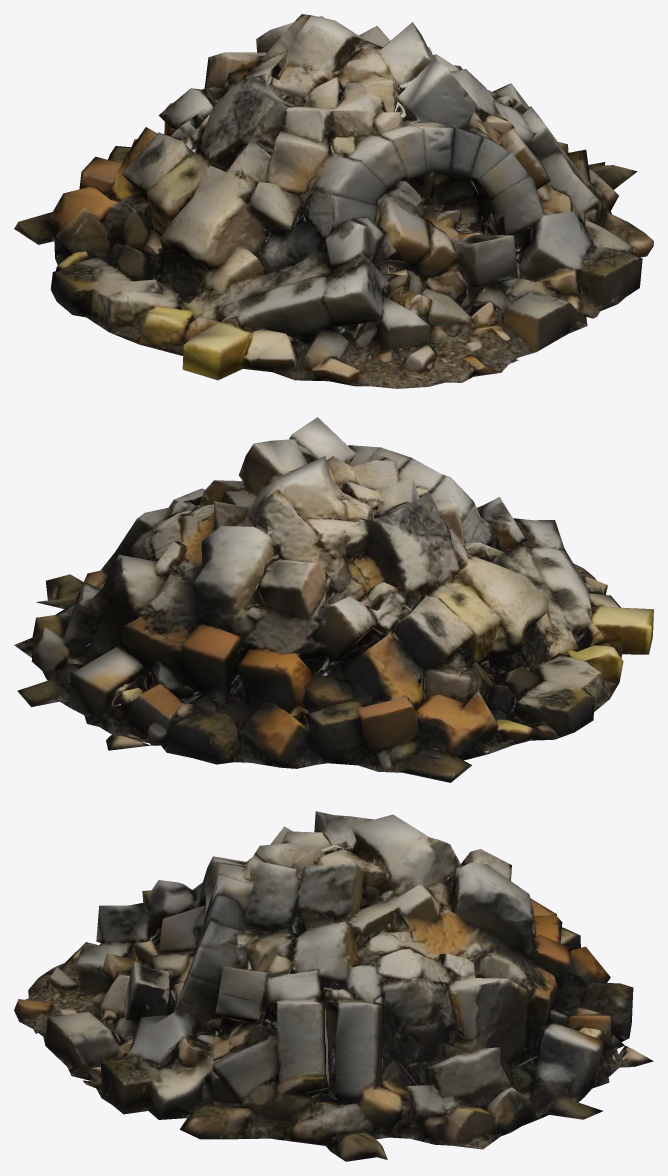
File: Rubble_Pile.glb
3 renders of one model, top to bottom at view 1: azimuth 30°, elevation 25°; view 2: azimuth 150°, elevation 25°; view 3: azimuth 270°, elevation 25°, orthographic. The views are drawn at different scales.
Parts seen in each view (by area): view 1: Rubble_Pile; view 2: Rubble_Pile; view 3: Rubble_Pile.
Part boxes in pixels (x1,y1,x2,y2): Rubble_Pile: [14, 14, 653, 388]; Rubble_Pile: [14, 417, 653, 782]; Rubble_Pile: [14, 811, 653, 1161].
Size of the model in its own units: 1.89 by 0.6773 by 1.89.
Materials: 1 (1 with a texture image).
